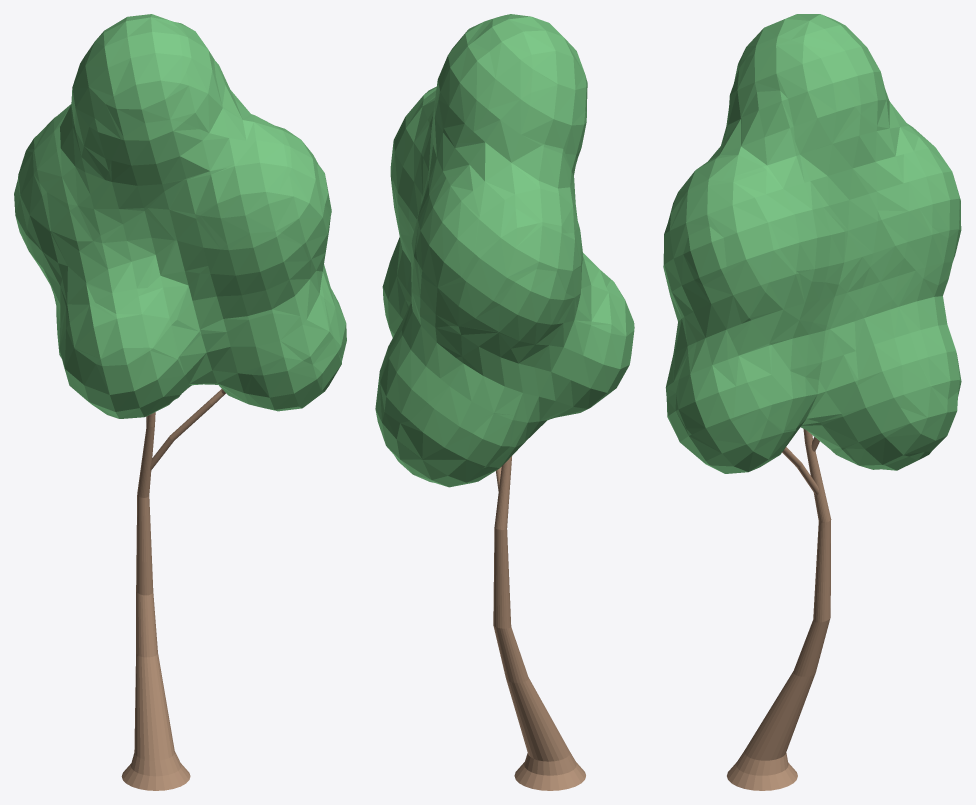
File: Cartoon_Trees_Pack_Tree_12.glb
3 renders of one model, left to right at view 1: azimuth 30°, elevation 25°; view 2: azimuth 150°, elevation 25°; view 3: azimuth 270°, elevation 25°, orthographic. The views are drawn at different scales.
Parts seen in each view (by area): view 1: Canopy, Trunk; view 2: Canopy, Trunk; view 3: Canopy, Trunk.
Part boxes in pixels (<box>): Canopy: <box>14,14,346,418</box>; Trunk: <box>121,389,225,790</box>; Canopy: <box>375,14,634,487</box>; Trunk: <box>493,456,585,790</box>; Canopy: <box>663,14,961,473</box>; Trunk: <box>727,429,831,790</box>.
Bounding box in the file's own units: 340 × 978 × 346.
